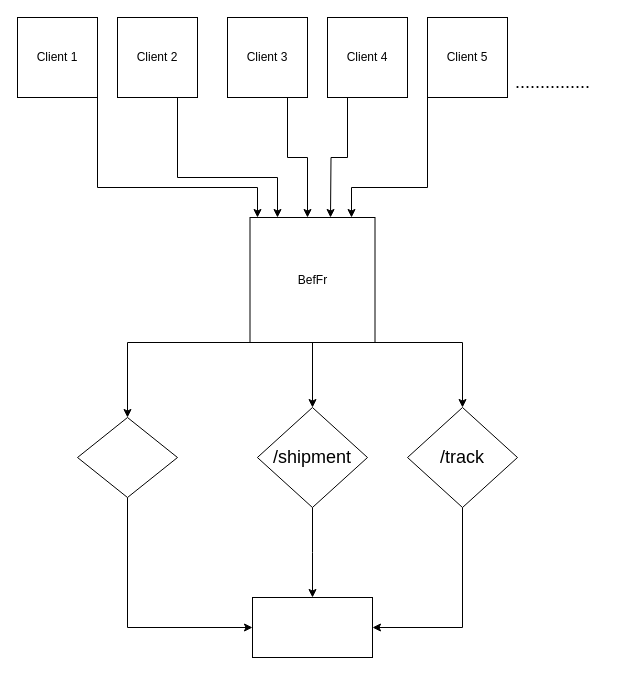
The diagram is 620 pixels wide and 675 high, and some of its shapes have lost their labels. Here are the shapes that lost their labels. From the top down, the centre of each, then its label:
the point at 127,457: /pricing
the point at 312,627: Backend-services
